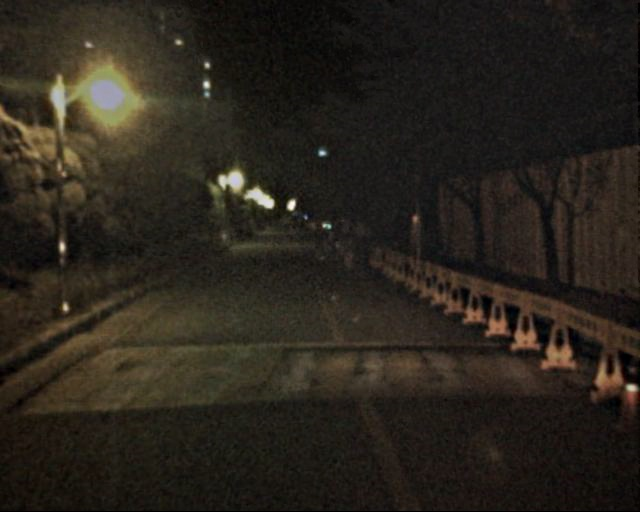person: (350, 221, 375, 281), (337, 222, 357, 271), (309, 220, 327, 264), (322, 221, 340, 264)
